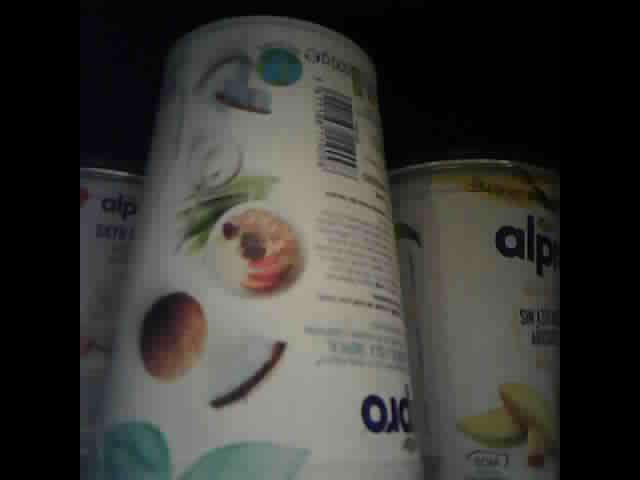alpro: (102, 15, 423, 480), (388, 152, 560, 480), (81, 160, 147, 480)
